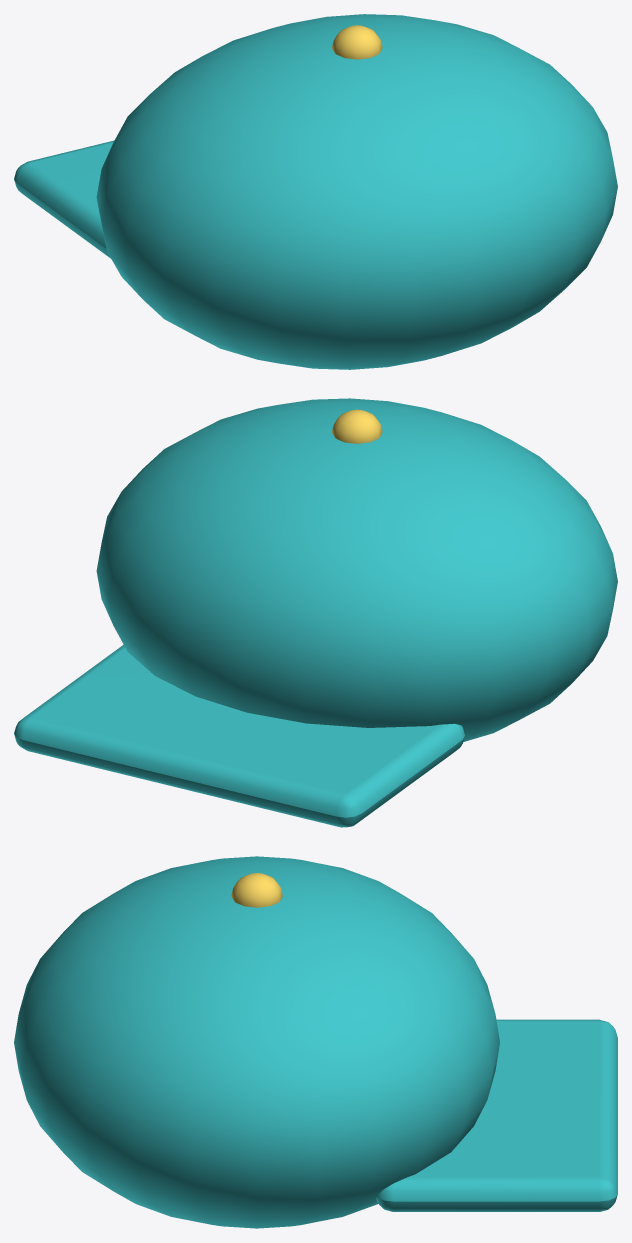
File: hat_mechanic.glb
3 renders of one model, top to bottom at view 1: azimuth 30°, elevation 25°; view 2: azimuth 150°, elevation 25°; view 3: azimuth 270°, elevation 25°, orthographic.
Visible parts, largest first — view 1: hat_mechanic; view 2: hat_mechanic; view 3: hat_mechanic.
Boxes of the visible parts, box(x1,y1,x2,y2) form: hat_mechanic: box(14, 14, 617, 369); hat_mechanic: box(14, 398, 617, 827); hat_mechanic: box(14, 856, 617, 1228).
Bounding box in the file's own units: 0.74 × 0.47 × 0.82.
